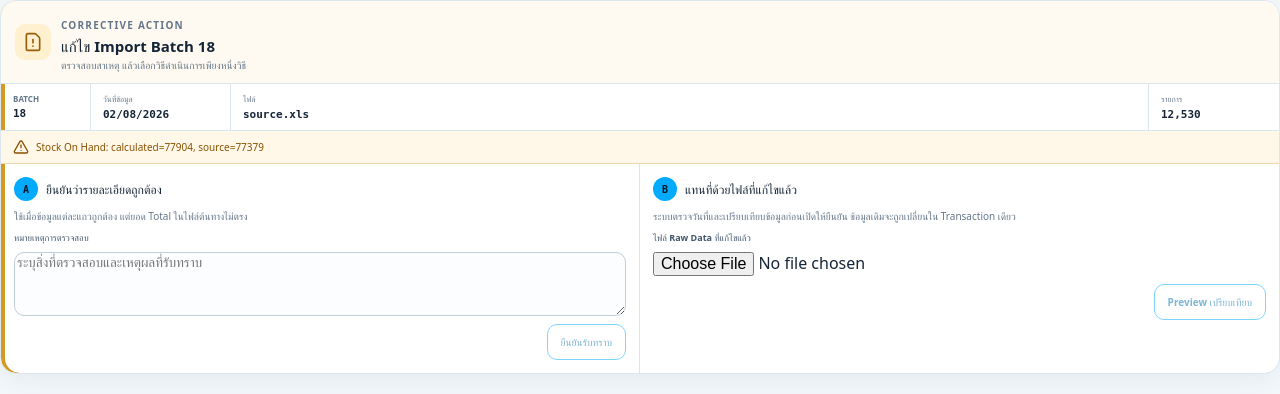
it: ImportCorrectivePanel › loads a warning and requires a note before acknowledgement
This screenshot has width=1280, height=394.
Check: the text "Stock On Hand: calculated=77904, source=77379" is shown, box [1,131,1279,164]
Check: the button "ยืนยันรับทราบ" is disabled, box [546,324,626,360]
Type "ตรวจ Total แล้ว" into the text box labelled "หมายเหตุการตรวจสอบ" at (320, 284), box [14,252,626,316]
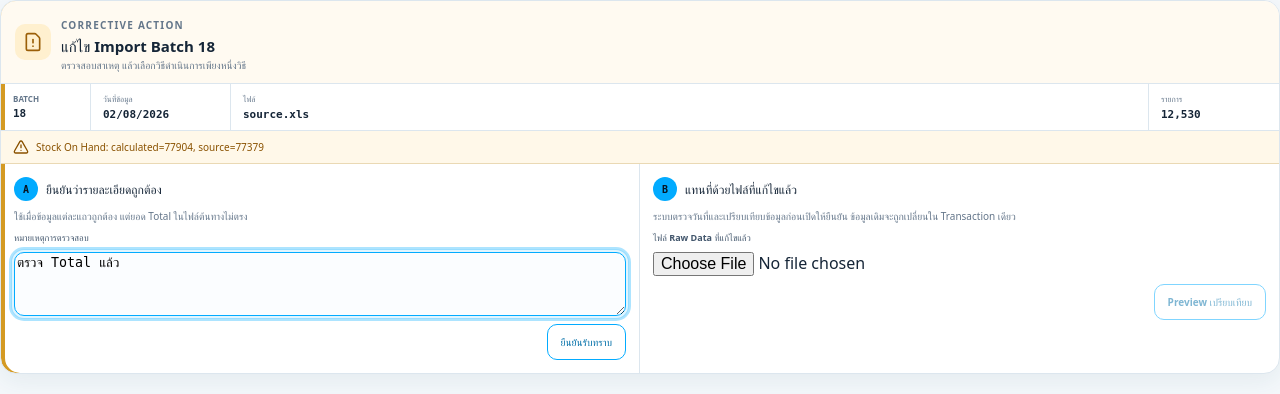
Click the button "ยืนยันรับทราบ" at (586, 342), box [546,324,626,360]
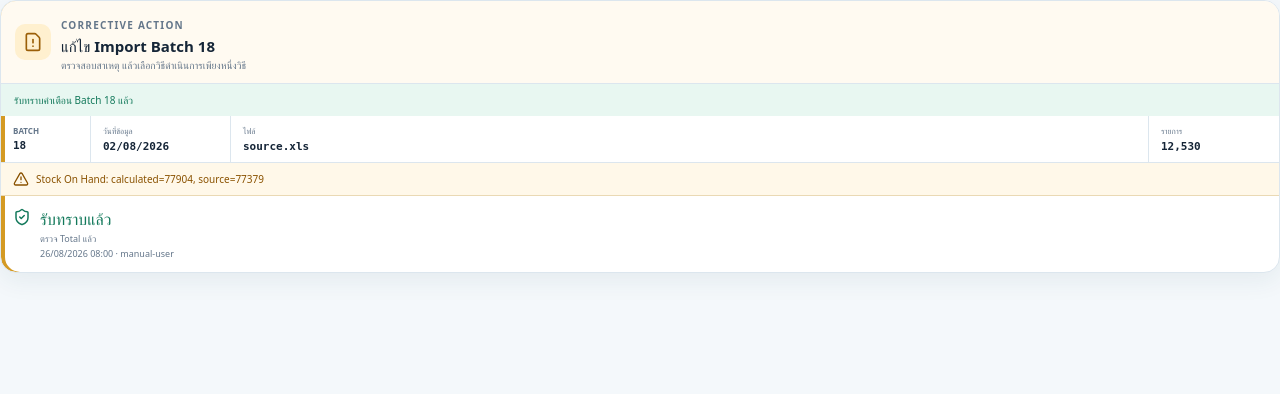
Check: the text "รับทราบแล้ว" is shown, box [40,208,111,230]
